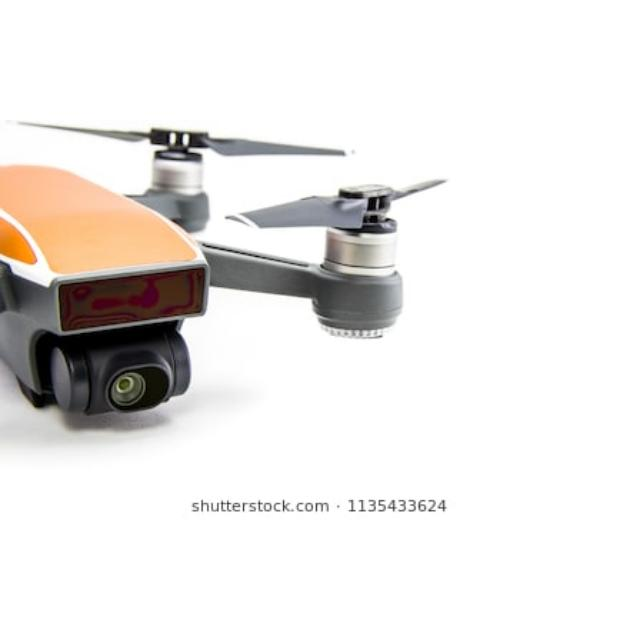Drones: (5, 124, 415, 416)
